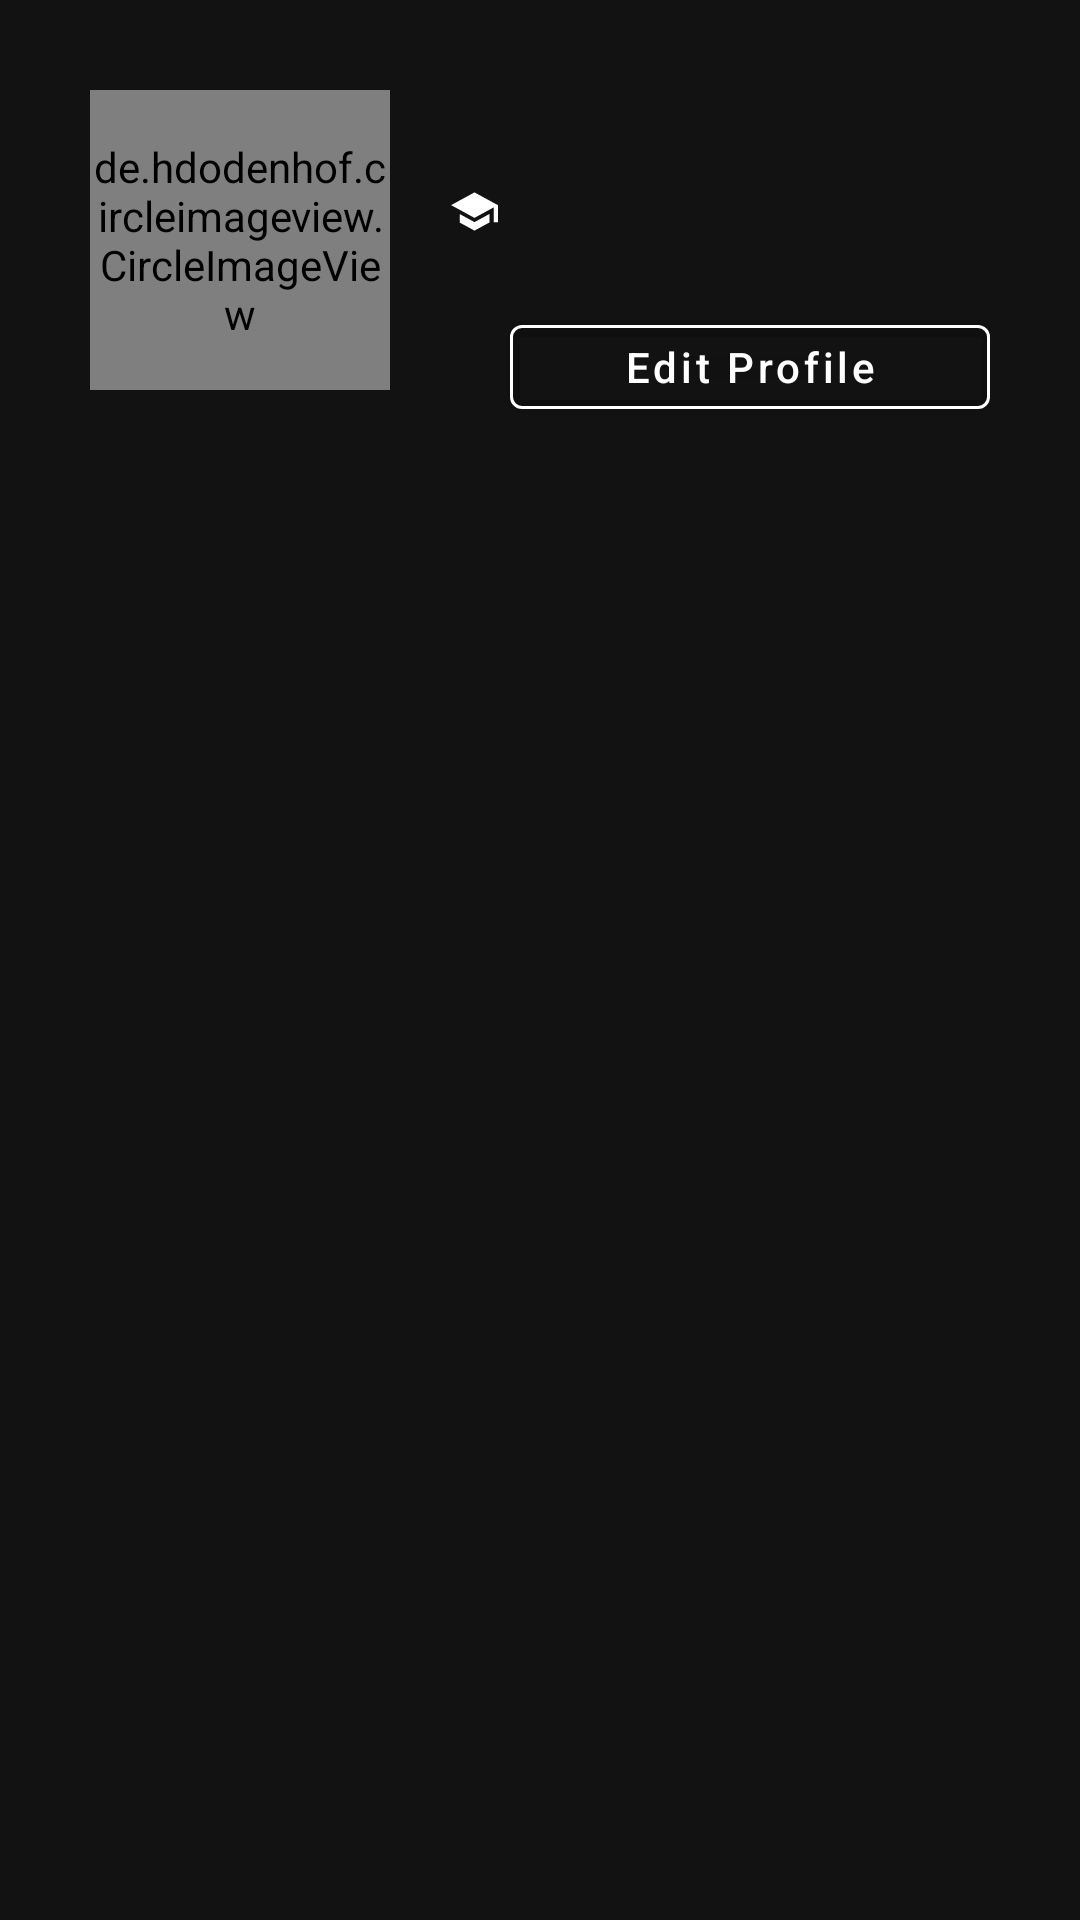

Icons on this 1080px x 1920px Android screen, each with the point to tap as (x,y):
school: (474,211)
